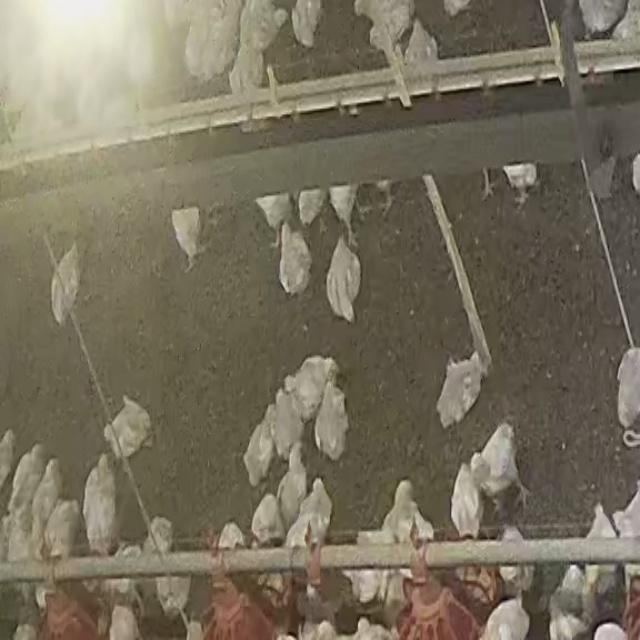chicken: (382, 475, 432, 576), (434, 352, 485, 431), (472, 421, 519, 506), (344, 528, 391, 606), (323, 236, 363, 323), (283, 352, 339, 414), (102, 391, 151, 461), (82, 456, 112, 554), (447, 462, 484, 540), (8, 441, 46, 514), (48, 244, 82, 324), (202, 10, 240, 80), (240, 0, 290, 53), (314, 383, 349, 458), (278, 221, 312, 298), (584, 506, 618, 583), (614, 488, 640, 579), (354, 0, 415, 38), (613, 346, 640, 429), (499, 530, 534, 594), (478, 598, 531, 640), (279, 443, 307, 522), (300, 477, 334, 540), (185, 15, 215, 86), (44, 500, 80, 559), (31, 457, 64, 521), (270, 390, 300, 454), (170, 206, 202, 266), (4, 514, 44, 559), (244, 425, 273, 486), (576, 0, 625, 36), (404, 17, 440, 66), (155, 575, 191, 622), (252, 494, 283, 546), (230, 51, 264, 97), (291, 0, 321, 51), (104, 606, 144, 640), (257, 194, 292, 228), (502, 163, 538, 196), (327, 186, 358, 224), (299, 186, 327, 223), (0, 428, 16, 488), (218, 521, 245, 550)
